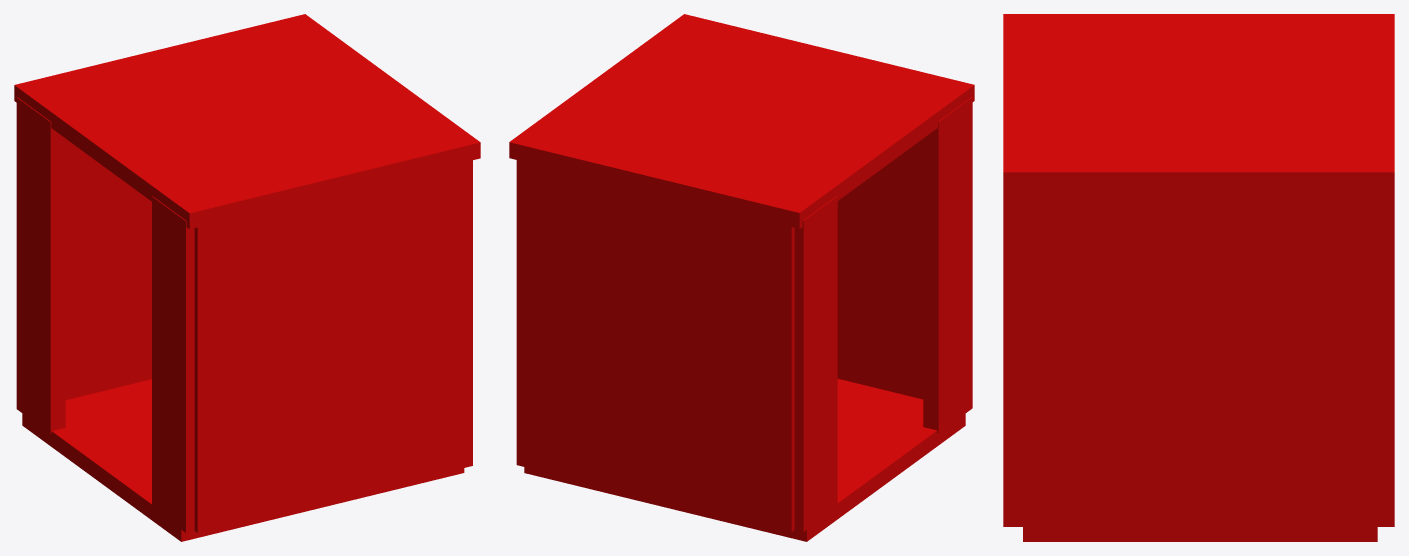
The model's file is Lift_BodyCollision.fbx.
The picture shows the model from 3 angles, left to right: view 1: azimuth 30°, elevation 25°; view 2: azimuth 150°, elevation 25°; view 3: azimuth 270°, elevation 25°; orthographic projection. The views are drawn at different scales.
Visible parts, largest first — view 1: Collision_Lift; view 2: Collision_Lift; view 3: Collision_Lift.
Part boxes in pixels (x1=…): Collision_Lift: x1=14, y1=14, x2=480, y2=541; Collision_Lift: x1=509, y1=14, x2=974, y2=541; Collision_Lift: x1=1003, y1=14, x2=1394, y2=541.
Size of the model in its own units: 2.98 by 3.27 by 3.11.
